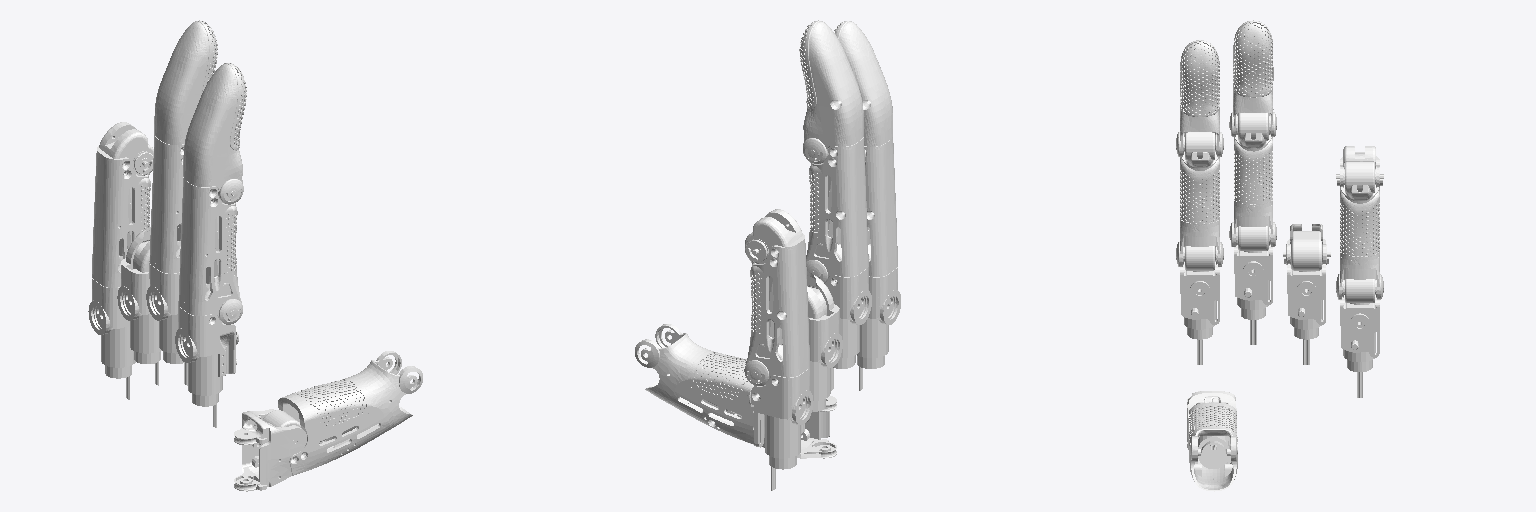
The robot description file, URDF, robot "linkerhand_o20_left":
<?xml version="1.0" encoding="utf-8"?>
<!-- This URDF was automatically created by SolidWorks to URDF Exporter! Originally created by Stephen Brawner (brawner@gmail.com) 
     Commit Version: 1.6.0-4-g7f85cfe  Build Version: 1.6.7995.38578
     For more information, please see http://wiki.ros.org/sw_urdf_exporter -->
<robot
  name="linkerhand_o20_left">
  <link
    name="hand_link">
    <inertial>
      <origin
        xyz="0.000849520619415208 -0.00070719873745842 0.059099389031886"
        rpy="0 0 0" />
      <mass
        value="0.0570838460961435" />
      <inertia
        ixx="8.5646323610939E-05"
        ixy="-2.14577665998867E-07"
        ixz="-7.50777100058125E-07"
        iyy="4.86497747004307E-05"
        iyz="4.66496833258109E-06"
        izz="4.29238375503878E-05" />
    </inertial>
    <visual>
      <origin
        xyz="0 0 0"
        rpy="0 0 0" />
      <geometry>
        <mesh
          filename="meshes/hand_link.STL" />
      </geometry>
      <material
        name="">
        <color
          rgba="1 1 1 1" />
      </material>
    </visual>
    <collision>
      <origin
        xyz="0 0 0"
        rpy="0 0 0" />
      <geometry>
        <mesh
          filename="meshes/hand_link.STL" />
      </geometry>
    </collision>
  </link>
  <link
    name="index_metacarpals_Link">
    <inertial>
      <origin
        xyz="-0.00992120862450641 6.68771783823852E-06 0.000223405034453672"
        rpy="0 0 0" />
      <mass
        value="0.00734392284776259" />
      <inertia
        ixx="1.08897049819912E-06"
        ixy="-9.58318672164588E-09"
        ixz="-6.44884731229722E-08"
        iyy="1.17774506404832E-06"
        iyz="5.10075225671347E-09"
        izz="2.43573441173934E-07" />
    </inertial>
    <visual>
      <origin
        xyz="0 0 0"
        rpy="0 0 0" />
      <geometry>
        <mesh
          filename="meshes/index_metacarpals_Link.STL" />
      </geometry>
      <material
        name="">
        <color
          rgba="1 1 1 1" />
      </material>
    </visual>
    <collision>
      <origin
        xyz="0 0 0"
        rpy="0 0 0" />
      <geometry>
        <mesh
          filename="meshes/index_metacarpals_Link.STL" />
      </geometry>
    </collision>
  </link>
  <joint
    name="index_mcp_roll"
    type="revolute">
    <origin
      xyz="0.0174635265262429 -0.0321290068198802 0.0926815645465124"
      rpy="0 0 0" />
    <parent
      link="hand_link" />
    <child
      link="index_metacarpals_Link" />
    <axis
      xyz="1 0 0" />
    <limit
      lower="-0.09"
      upper="0.35"
      effort="1"
      velocity="1" />
  </joint>
  <link
    name="index_proximal_Link">
    <inertial>
      <origin
        xyz="-0.00367321131770285 -2.31071607957878E-05 0.0325232230090793"
        rpy="0 0 0" />
      <mass
        value="0.00831573201857991" />
      <inertia
        ixx="1.86735673454249E-06"
        ixy="-4.74543879199351E-10"
        ixz="-1.89678702761411E-08"
        iyy="1.9948187057852E-06"
        iyz="-2.34557886688678E-09"
        izz="2.97587799550115E-07" />
    </inertial>
    <visual>
      <origin
        xyz="0 0 0"
        rpy="0 0 0" />
      <geometry>
        <mesh
          filename="meshes/index_proximal_Link.STL" />
      </geometry>
      <material
        name="">
        <color
          rgba="1 1 1 1" />
      </material>
    </visual>
    <collision>
      <origin
        xyz="0 0 0"
        rpy="0 0 0" />
      <geometry>
        <mesh
          filename="meshes/index_proximal_Link.STL" />
      </geometry>
    </collision>
  </link>
  <joint
    name="index_mcp_pitch"
    type="revolute">
    <origin
      xyz="-0.00506 0 0.0135"
      rpy="0 0 0" />
    <parent
      link="index_metacarpals_Link" />
    <child
      link="index_proximal_Link" />
    <axis
      xyz="0 1 0" />
    <limit
      lower="0"
      upper="1.85"
      effort="1"
      velocity="1" />
  </joint>
  <link
    name="index_distal_Link">
    <inertial>
      <origin
        xyz="-0.00297969207398596 2.45752389749221E-06 0.0216869024463675"
        rpy="0 0 0" />
      <mass
        value="0.00323209055280977" />
      <inertia
        ixx="4.57088077035458E-07"
        ixy="-1.80400472499687E-10"
        ixz="-6.6907903467265E-08"
        iyy="5.33035313198208E-07"
        iyz="1.13015465505619E-09"
        izz="1.07546243605372E-07" />
    </inertial>
    <visual>
      <origin
        xyz="0 0 0"
        rpy="0 0 0" />
      <geometry>
        <mesh
          filename="meshes/index_distal_Link.STL" />
      </geometry>
      <material
        name="">
        <color
          rgba="1 1 1 1" />
      </material>
    </visual>
    <collision>
      <origin
        xyz="0 0 0"
        rpy="0 0 0" />
      <geometry>
        <mesh
          filename="meshes/index_distal_Link.STL" />
      </geometry>
    </collision>
  </link>
  <joint
    name="index_dip"
    type="revolute">
    <origin
      xyz="0.0003221 0 0.047987"
      rpy="0 0 0" />
    <parent
      link="index_proximal_Link" />
    <child
      link="index_distal_Link" />
    <axis
      xyz="0 1 0" />
    <limit
      lower="0"
      upper="1.85"
      effort="1"
      velocity="1" />
  </joint>
  <link
    name="middle_metacarpals_Link">
    <inertial>
      <origin
        xyz="-0.00992120862450639 6.68577981235985E-06 0.000223405092460854"
        rpy="0 0 0" />
      <mass
        value="0.00734392284776254" />
      <inertia
        ixx="1.08897049819912E-06"
        ixy="-9.58262728754659E-09"
        ixz="-6.44885562541307E-08"
        iyy="1.17774497548056E-06"
        iyz="5.10885614021855E-09"
        izz="2.4357352974169E-07" />
    </inertial>
    <visual>
      <origin
        xyz="0 0 0"
        rpy="0 0 0" />
      <geometry>
        <mesh
          filename="meshes/middle_metacarpals_Link.STL" />
      </geometry>
      <material
        name="">
        <color
          rgba="1 1 1 1" />
      </material>
    </visual>
    <collision>
      <origin
        xyz="0 0 0"
        rpy="0 0 0" />
      <geometry>
        <mesh
          filename="meshes/middle_metacarpals_Link.STL" />
      </geometry>
    </collision>
  </link>
  <joint
    name="middle_mcp_roll"
    type="revolute">
    <origin
      xyz="0.0174634861601441 -0.0111290166074207 0.101181566517316"
      rpy="0 0 0" />
    <parent
      link="hand_link" />
    <child
      link="middle_metacarpals_Link" />
    <axis
      xyz="1 0 0" />
    <limit
      lower="-0.26"
      upper="0.26"
      effort="1"
      velocity="1" />
  </joint>
  <link
    name="middle_proximal_Link">
    <inertial>
      <origin
        xyz="-0.0036732114846712 -2.31071357804924E-05 0.0325232228422371"
        rpy="0 0 0" />
      <mass
        value="0.00831573186298222" />
      <inertia
        ixx="1.86735672749057E-06"
        ixy="-4.74545224463079E-10"
        ixz="-1.89678609970886E-08"
        iyy="1.99481869316143E-06"
        iyz="-2.34558011831636E-09"
        izz="2.97587793714668E-07" />
    </inertial>
    <visual>
      <origin
        xyz="0 0 0"
        rpy="0 0 0" />
      <geometry>
        <mesh
          filename="meshes/middle_proximal_Link.STL" />
      </geometry>
      <material
        name="">
        <color
          rgba="1 1 1 1" />
      </material>
    </visual>
    <collision>
      <origin
        xyz="0 0 0"
        rpy="0 0 0" />
      <geometry>
        <mesh
          filename="meshes/middle_proximal_Link.STL" />
      </geometry>
    </collision>
  </link>
  <joint
    name="middle_mcp_pitch"
    type="revolute">
    <origin
      xyz="-0.00506 0 0.0135"
      rpy="1.3016E-05 0 0" />
    <parent
      link="middle_metacarpals_Link" />
    <child
      link="middle_proximal_Link" />
    <axis
      xyz="0 1 0" />
    <limit
      lower="0"
      upper="1.85"
      effort="1"
      velocity="1" />
  </joint>
  <link
    name="middle_distal_Link">
    <inertial>
      <origin
        xyz="-0.00293041849564967 -3.89006533701997E-06 0.0218142270025045"
        rpy="0 0 0" />
      <mass
        value="0.00324954314081777" />
      <inertia
        ixx="4.55915865433475E-07"
        ixy="-1.98135258886676E-10"
        ixz="-6.92569064415059E-08"
        iyy="5.33157375447353E-07"
        iyz="1.07758101693537E-09"
        izz="1.08711663486019E-07" />
    </inertial>
    <visual>
      <origin
        xyz="0 0 0"
        rpy="0 0 0" />
      <geometry>
        <mesh
          filename="meshes/middle_distal_Link.STL" />
      </geometry>
      <material
        name="">
        <color
          rgba="1 1 1 1" />
      </material>
    </visual>
    <collision>
      <origin
        xyz="0 0 0"
        rpy="0 0 0" />
      <geometry>
        <mesh
          filename="meshes/middle_distal_Link.STL" />
      </geometry>
    </collision>
  </link>
  <joint
    name="middle_dip"
    type="revolute">
    <origin
      xyz="0.00032209985094603 0 0.0479867634228435"
      rpy="0 0 0" />
    <parent
      link="middle_proximal_Link" />
    <child
      link="middle_distal_Link" />
    <axis
      xyz="0 1 0" />
    <limit
      lower="0"
      upper="1.85"
      effort="1"
      velocity="1" />
  </joint>
  <link
    name="ring_metacarpals_Link">
    <inertial>
      <origin
        xyz="-0.00992120865956225 6.68586831434337E-06 0.000223404908704011"
        rpy="0 0 0" />
      <mass
        value="0.00734392273506302" />
      <inertia
        ixx="1.08897048976091E-06"
        ixy="-9.58262781659593E-09"
        ixz="-6.44885515183679E-08"
        iyy="1.17774496956886E-06"
        iyz="5.1088541425212E-09"
        izz="2.43573531358402E-07" />
    </inertial>
    <visual>
      <origin
        xyz="0 0 0"
        rpy="0 0 0" />
      <geometry>
        <mesh
          filename="meshes/ring_metacarpals_Link.STL" />
      </geometry>
      <material
        name="">
        <color
          rgba="1 1 1 1" />
      </material>
    </visual>
    <collision>
      <origin
        xyz="0 0 0"
        rpy="0 0 0" />
      <geometry>
        <mesh
          filename="meshes/ring_metacarpals_Link.STL" />
      </geometry>
    </collision>
  </link>
  <joint
    name="ring_mcp_roll"
    type="revolute">
    <origin
      xyz="0.0174634282508036 0.00987100494100429 0.0926815722767309"
      rpy="0 0 0" />
    <parent
      link="hand_link" />
    <child
      link="ring_metacarpals_Link" />
    <axis
      xyz="1 0 0" />
    <limit
      lower="-0.2"
      upper="0.2"
      effort="1"
      velocity="1" />
  </joint>
  <link
    name="ring_proximal_Link">
    <inertial>
      <origin
        xyz="-0.00367332024654761 -2.30412804517466E-05 0.0325233015484576"
        rpy="0 0 0" />
      <mass
        value="0.00831557810340706" />
      <inertia
        ixx="1.86734950641746E-06"
        ixy="-4.74590216139357E-10"
        ixz="-1.89667324539864E-08"
        iyy="1.99481480519339E-06"
        iyz="-2.34453599475059E-09"
        izz="2.97583782229243E-07" />
    </inertial>
    <visual>
      <origin
        xyz="0 0 0"
        rpy="0 0 0" />
      <geometry>
        <mesh
          filename="meshes/ring_proximal_Link.STL" />
      </geometry>
      <material
        name="">
        <color
          rgba="1 1 1 1" />
      </material>
    </visual>
    <collision>
      <origin
        xyz="0 0 0"
        rpy="0 0 0" />
      <geometry>
        <mesh
          filename="meshes/ring_proximal_Link.STL" />
      </geometry>
    </collision>
  </link>
  <joint
    name="ring_mcp_pitch"
    type="revolute">
    <origin
      xyz="-0.00506 0 0.0135"
      rpy="1.3016E-05 0 0" />
    <parent
      link="ring_metacarpals_Link" />
    <child
      link="ring_proximal_Link" />
    <axis
      xyz="0 1 0" />
    <limit
      lower="0"
      upper="1.85"
      effort="1"
      velocity="1" />
  </joint>
  <link
    name="ring_distal_Link">
    <inertial>
      <origin
        xyz="-0.00293041849564948 -3.89006533707548E-06 0.0218142270025046"
        rpy="0 0 0" />
      <mass
        value="0.00324954314081774" />
      <inertia
        ixx="4.55915865433464E-07"
        ixy="-1.98135258886398E-10"
        ixz="-6.92569064414978E-08"
        iyy="5.33157375447341E-07"
        iyz="1.07758101693545E-09"
        izz="1.08711663486016E-07" />
    </inertial>
    <visual>
      <origin
        xyz="0 0 0"
        rpy="0 0 0" />
      <geometry>
        <mesh
          filename="meshes/ring_distal_Link.STL" />
      </geometry>
      <material
        name="">
        <color
          rgba="1 1 1 1" />
      </material>
    </visual>
    <collision>
      <origin
        xyz="0 0 0"
        rpy="0 0 0" />
      <geometry>
        <mesh
          filename="meshes/ring_distal_Link.STL" />
      </geometry>
    </collision>
  </link>
  <joint
    name="ring_dip"
    type="revolute">
    <origin
      xyz="0.0003221 0 0.047987"
      rpy="0 0 0" />
    <parent
      link="ring_proximal_Link" />
    <child
      link="ring_distal_Link" />
    <axis
      xyz="0 1 0" />
    <limit
      lower="0"
      upper="1.85"
      effort="1"
      velocity="1" />
  </joint>
  <link
    name="pinky_metacarpals_Link">
    <inertial>
      <origin
        xyz="-0.00992120865954998 6.68588644436863E-06 0.000223404908703831"
        rpy="0 0 0" />
      <mass
        value="0.00734392273506291" />
      <inertia
        ixx="1.08897048972599E-06"
        ixy="-9.58262765540142E-09"
        ixz="-6.44885515090842E-08"
        iyy="1.17774496960377E-06"
        iyz="5.10885425999409E-09"
        izz="2.43573531358405E-07" />
    </inertial>
    <visual>
      <origin
        xyz="0 0 0"
        rpy="0 0 0" />
      <geometry>
        <mesh
          filename="meshes/pinky_metacarpals_Link.STL" />
      </geometry>
      <material
        name="">
        <color
          rgba="1 1 1 1" />
      </material>
    </visual>
    <collision>
      <origin
        xyz="0 0 0"
        rpy="0 0 0" />
      <geometry>
        <mesh
          filename="meshes/pinky_metacarpals_Link.STL" />
      </geometry>
    </collision>
  </link>
  <joint
    name="pinky_mcp_roll"
    type="revolute">
    <origin
      xyz="0.017463 0.030888 0.078471"
      rpy="0 0 0" />
    <parent
      link="hand_link" />
    <child
      link="pinky_metacarpals_Link" />
    <axis
      xyz="1 0 0" />
    <limit
      lower="-0.21"
      upper="0.09"
      effort="1"
      velocity="1" />
  </joint>
  <link
    name="pinky_proximal_Link">
    <inertial>
      <origin
        xyz="-0.00367332071275329 -2.30411657840268E-05 0.0325233004807472"
        rpy="0 0 0" />
      <mass
        value="0.00831557733164844" />
      <inertia
        ixx="1.8673494329346E-06"
        ixy="-4.74594000530771E-10"
        ixz="-1.89667079434005E-08"
        iyy="1.99481471971926E-06"
        iyz="-2.3445455496214E-09"
        izz="2.97583767942969E-07" />
    </inertial>
    <visual>
      <origin
        xyz="0 0 0"
        rpy="0 0 0" />
      <geometry>
        <mesh
          filename="meshes/pinky_proximal_Link.STL" />
      </geometry>
      <material
        name="">
        <color
          rgba="1 1 1 1" />
      </material>
    </visual>
    <collision>
      <origin
        xyz="0 0 0"
        rpy="0 0 0" />
      <geometry>
        <mesh
          filename="meshes/pinky_proximal_Link.STL" />
      </geometry>
    </collision>
  </link>
  <joint
    name="pinky_mcp_pitch"
    type="revolute">
    <origin
      xyz="-0.00506 0 0.0135"
      rpy="1.3016E-05 0 0" />
    <parent
      link="pinky_metacarpals_Link" />
    <child
      link="pinky_proximal_Link" />
    <axis
      xyz="0 1 0" />
    <limit
      lower="0"
      upper="1.85"
      effort="1"
      velocity="1" />
  </joint>
  <link
    name="pinky_distal_Link">
    <inertial>
      <origin
        xyz="-0.00293041849255368 -3.89006866832742E-06 0.0218142270005153"
        rpy="0 0 0" />
      <mass
        value="0.00324954313750449" />
      <inertia
        ixx="4.55915865412264E-07"
        ixy="-1.98135206006326E-10"
        ixz="-6.92569064982743E-08"
        iyy="5.33157375494196E-07"
        iyz="1.0775810415235E-09"
        izz="1.08711663417143E-07" />
    </inertial>
    <visual>
      <origin
        xyz="0 0 0"
        rpy="0 0 0" />
      <geometry>
        <mesh
          filename="meshes/pinky_distal_Link.STL" />
      </geometry>
      <material
        name="">
        <color
          rgba="1 1 1 1" />
      </material>
    </visual>
    <collision>
      <origin
        xyz="0 0 0"
        rpy="0 0 0" />
      <geometry>
        <mesh
          filename="meshes/pinky_distal_Link.STL" />
      </geometry>
    </collision>
  </link>
  <joint
    name="pinky_dip"
    type="revolute">
    <origin
      xyz="0.000322099850946078 0 0.0479867634228436"
      rpy="0 0 0" />
    <parent
      link="pinky_proximal_Link" />
    <child
      link="pinky_distal_Link" />
    <axis
      xyz="0 1 0" />
    <limit
      lower="0"
      upper="1.85"
      effort="1"
      velocity="1" />
  </joint>
  <link
    name="thumb_metacarpals_base1_Link">
    <inertial>
      <origin
        xyz="0.000219139328539814 -0.000951206804292642 0.00839372399372894"
        rpy="0 0 0" />
      <mass
        value="0.00839004994825629" />
      <inertia
        ixx="1.21182396871158E-06"
        ixy="-4.44672362028652E-09"
        ixz="-1.5406441176489E-09"
        iyy="1.19609563051106E-06"
        iyz="-6.67970934076063E-08"
        izz="5.84518176090527E-07" />
    </inertial>
    <visual>
      <origin
        xyz="0 0 0"
        rpy="0 0 0" />
      <geometry>
        <mesh
          filename="meshes/thumb_metacarpals_base1_Link.STL" />
      </geometry>
      <material
        name="">
        <color
          rgba="1 1 1 1" />
      </material>
    </visual>
    <collision>
      <origin
        xyz="0 0 0"
        rpy="0 0 0" />
      <geometry>
        <mesh
          filename="meshes/thumb_metacarpals_base1_Link.STL" />
      </geometry>
    </collision>
  </link>
  <joint
    name="thumb_cmc_roll"
    type="revolute">
    <origin
      xyz="-0.00014989447450688 -0.0243352122970611 0.0399106129827283"
      rpy="-0.256264356957907 -1.57079595337287 -2.88532595674103" />
    <parent
      link="hand_link" />
    <child
      link="thumb_metacarpals_base1_Link" />
    <axis
      xyz="0 0 -0.999999999999028" />
    <limit
      lower="-0.52"
      upper="0.52"
      effort="1"
      velocity="1" />
  </joint>
  <link
    name="thumb_metacarpals_base2_Link">
    <inertial>
      <origin
        xyz="0.00181699052955647 0.00361913479378934 0.008485167902595"
        rpy="0 0 0" />
      <mass
        value="0.00110425318204545" />
      <inertia
        ixx="3.59521194539578E-08"
        ixy="-5.18569455182676E-10"
        ixz="8.60873642791571E-09"
        iyy="9.9326553789481E-08"
        iyz="-5.25199643601802E-09"
        izz="7.92449057098316E-08" />
    </inertial>
    <visual>
      <origin
        xyz="0 0 0"
        rpy="0 0 0" />
      <geometry>
        <mesh
          filename="meshes/thumb_metacarpals_base2_Link.STL" />
      </geometry>
      <material
        name="">
        <color
          rgba="1 1 1 1" />
      </material>
    </visual>
    <collision>
      <origin
        xyz="0 0 0"
        rpy="0 0 0" />
      <geometry>
        <mesh
          filename="meshes/thumb_metacarpals_base2_Link.STL" />
      </geometry>
    </collision>
  </link>
  <joint
    name="thumb_cmc_yaw"
    type="revolute">
    <origin
      xyz="0 0.00600000000089998 0.0245984769451055"
      rpy="0.0174532959095084 0 0" />
    <parent
      link="thumb_metacarpals_base1_Link" />
    <child
      link="thumb_metacarpals_base2_Link" />
    <axis
      xyz="1 0 0" />
    <limit
      lower="-1.57"
      upper="0.63"
      effort="1"
      velocity="1" />
  </joint>
  <link
    name="thumb_metacarpals_Link">
    <inertial>
      <origin
        xyz="-0.00424923378354601 0.00191863772508497 0.0175636718247254"
        rpy="0 0 0" />
      <mass
        value="0.00844221725517528" />
      <inertia
        ixx="1.5534012427724E-06"
        ixy="-5.14915437755252E-09"
        ixz="7.81455413326403E-08"
        iyy="1.70586563233557E-06"
        iyz="-3.00274910575292E-10"
        izz="3.86558385205327E-07" />
    </inertial>
    <visual>
      <origin
        xyz="0 0 0"
        rpy="0 0 0" />
      <geometry>
        <mesh
          filename="meshes/thumb_metacarpals_Link.STL" />
      </geometry>
      <material
        name="">
        <color
          rgba="1 1 1 1" />
      </material>
    </visual>
    <collision>
      <origin
        xyz="0 0 0"
        rpy="0 0 0" />
      <geometry>
        <mesh
          filename="meshes/thumb_metacarpals_Link.STL" />
      </geometry>
    </collision>
  </link>
  <joint
    name="thumb_cmc_pitch"
    type="revolute">
    <origin
      xyz="0.0060748 -0.0028266 0.017019"
      rpy="-0.0045455 0.2395 -0.0010783" />
    <parent
      link="thumb_metacarpals_base2_Link" />
    <child
      link="thumb_metacarpals_Link" />
    <axis
      xyz="0 1 0" />
    <limit
      lower="0"
      upper="1.17"
      effort="1"
      velocity="1" />
  </joint>
  <link
    name="thumb_distal_Link">
    <inertial>
      <origin
        xyz="-0.0076825191240108 -0.00132416943832753 0.0176041663382255"
        rpy="0 0 0" />
      <mass
        value="0.00697244328088272" />
      <inertia
        ixx="1.18549394130075E-06"
        ixy="3.24481682929797E-09"
        ixz="3.30287732991743E-07"
        iyy="1.33969924177497E-06"
        iyz="-2.01528420507691E-08"
        izz="3.28302365214976E-07" />
    </inertial>
    <visual>
      <origin
        xyz="0 0 0"
        rpy="0 0 0" />
      <geometry>
        <mesh
          filename="meshes/thumb_distal_Link.STL" />
      </geometry>
      <material
        name="">
        <color
          rgba="1 1 1 1" />
      </material>
    </visual>
    <collision>
      <origin
        xyz="0 0 0"
        rpy="0 0 0" />
      <geometry>
        <mesh
          filename="meshes/thumb_distal_Link.STL" />
      </geometry>
    </collision>
  </link>
  <joint
    name="thumb_dip"
    type="revolute">
    <origin
      xyz="-0.00010207 0 0.051013"
      rpy="0 0 0" />
    <parent
      link="thumb_metacarpals_Link" />
    <child
      link="thumb_distal_Link" />
    <axis
      xyz="0 1 0" />
    <limit
      lower="0"
      upper="1.57"
      effort="1"
      velocity="1" />
  </joint>
</robot>

--- Render facts (derived) ---
3 views of the same robot in one strip: view 1: azimuth 30°, elevation 25°; view 2: azimuth 150°, elevation 25°; view 3: azimuth 270°, elevation 25° (orthographic).
Model linkerhand_o20_left with 17 links and 16 joints (16 revolute), rooted at hand_link, posed all joints at 0.
Links seen in each view (by area): view 1: thumb_metacarpals_Link, pinky_proximal_Link, index_proximal_Link, index_distal_Link, middle_distal_Link, index_metacarpals_Link, thumb_metacarpals_base2_Link, middle_proximal_Link, ring_metacarpals_Link, pinky_metacarpals_Link, middle_metacarpals_Link; view 2: pinky_proximal_Link, thumb_metacarpals_Link, middle_proximal_Link, middle_distal_Link, pinky_metacarpals_Link, index_proximal_Link, index_distal_Link, ring_metacarpals_Link, middle_metacarpals_Link, index_metacarpals_Link, thumb_metacarpals_base2_Link; view 3: pinky_proximal_Link, index_proximal_Link, middle_proximal_Link, ring_metacarpals_Link, thumb_metacarpals_Link, index_distal_Link, middle_distal_Link, pinky_metacarpals_Link, index_metacarpals_Link, middle_metacarpals_Link, thumb_metacarpals_base2_Link.
Link boxes in pixels (<box>): thumb_metacarpals_Link: <box>262,351,422,475</box>; pinky_proximal_Link: <box>92,122,153,287</box>; index_proximal_Link: <box>178,177,242,324</box>; index_distal_Link: <box>183,63,246,204</box>; middle_distal_Link: <box>154,20,217,144</box>; index_metacarpals_Link: <box>175,283,241,427</box>; thumb_metacarpals_base2_Link: <box>234,409,306,491</box>; middle_proximal_Link: <box>149,135,184,273</box>; ring_metacarpals_Link: <box>117,227,161,385</box>; pinky_metacarpals_Link: <box>88,255,135,399</box>; middle_metacarpals_Link: <box>146,241,187,385</box>; pinky_proximal_Link: <box>744,209,809,385</box>; thumb_metacarpals_Link: <box>635,324,764,447</box>; middle_proximal_Link: <box>803,137,868,283</box>; middle_distal_Link: <box>799,20,863,163</box>; pinky_metacarpals_Link: <box>746,344,813,490</box>; index_proximal_Link: <box>864,138,897,276</box>; index_distal_Link: <box>834,21,892,146</box>; ring_metacarpals_Link: <box>801,272,842,433</box>; middle_metacarpals_Link: <box>807,243,871,390</box>; index_metacarpals_Link: <box>857,244,900,390</box>; thumb_metacarpals_base2_Link: <box>797,396,836,458</box>; pinky_proximal_Link: <box>1336,146,1383,299</box>; index_proximal_Link: <box>1176,132,1223,266</box>; middle_proximal_Link: <box>1229,113,1276,246</box>; ring_metacarpals_Link: <box>1283,224,1330,364</box>; thumb_metacarpals_Link: <box>1188,402,1237,491</box>; index_distal_Link: <box>1176,40,1223,156</box>; middle_distal_Link: <box>1229,20,1276,136</box>; pinky_metacarpals_Link: <box>1340,279,1379,397</box>; index_metacarpals_Link: <box>1180,246,1219,364</box>; middle_metacarpals_Link: <box>1234,226,1272,344</box>; thumb_metacarpals_base2_Link: <box>1187,391,1236,449</box>.
Size in the robot's own frame: 0.0987 by 0.082 by 0.1807 metres.
Meshes: 17 distinct files referenced, 11 mesh visuals loaded (11 binary STL); not drawn: 6 (file found but could not be loaded).
